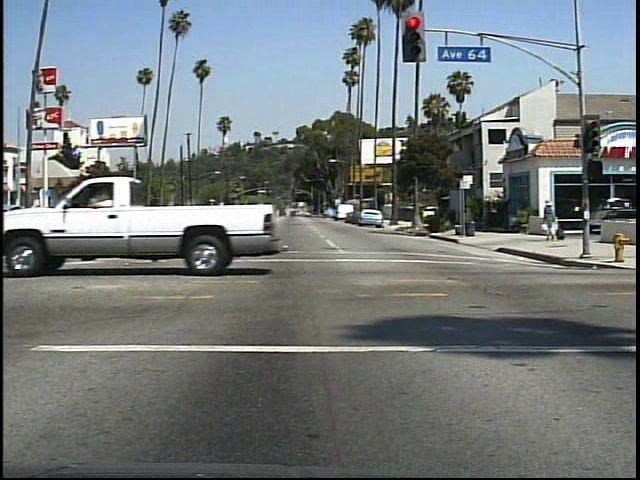person: (538, 194, 566, 247)
